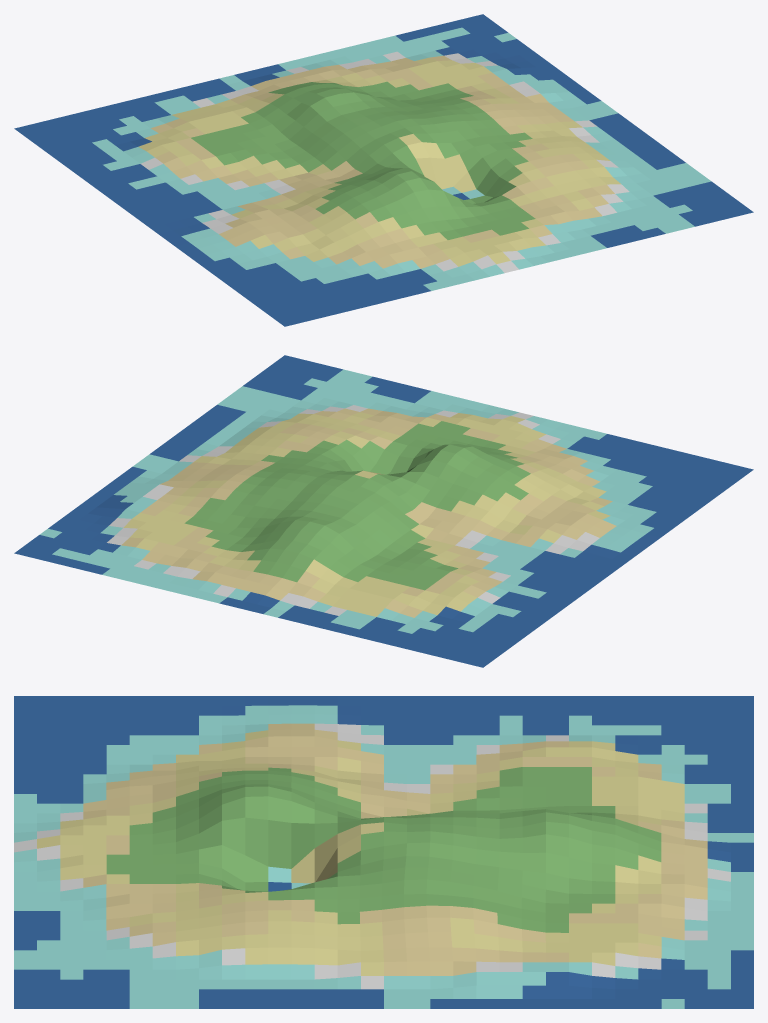
Rendered from Environment Island region001.fbx.
3 renders of one model, top to bottom at view 1: azimuth 30°, elevation 25°; view 2: azimuth 150°, elevation 25°; view 3: azimuth 270°, elevation 25°, orthographic. The views are drawn at different scales.
Visible parts, largest first — view 1: Plane; view 2: Plane; view 3: Plane.
Part boxes in pixels (x1,y1,x2,y2): Plane: [14, 14, 753, 326]; Plane: [14, 355, 753, 667]; Plane: [14, 696, 753, 1008].
Bounding box in the file's own units: 1610 × 139 × 1610.
